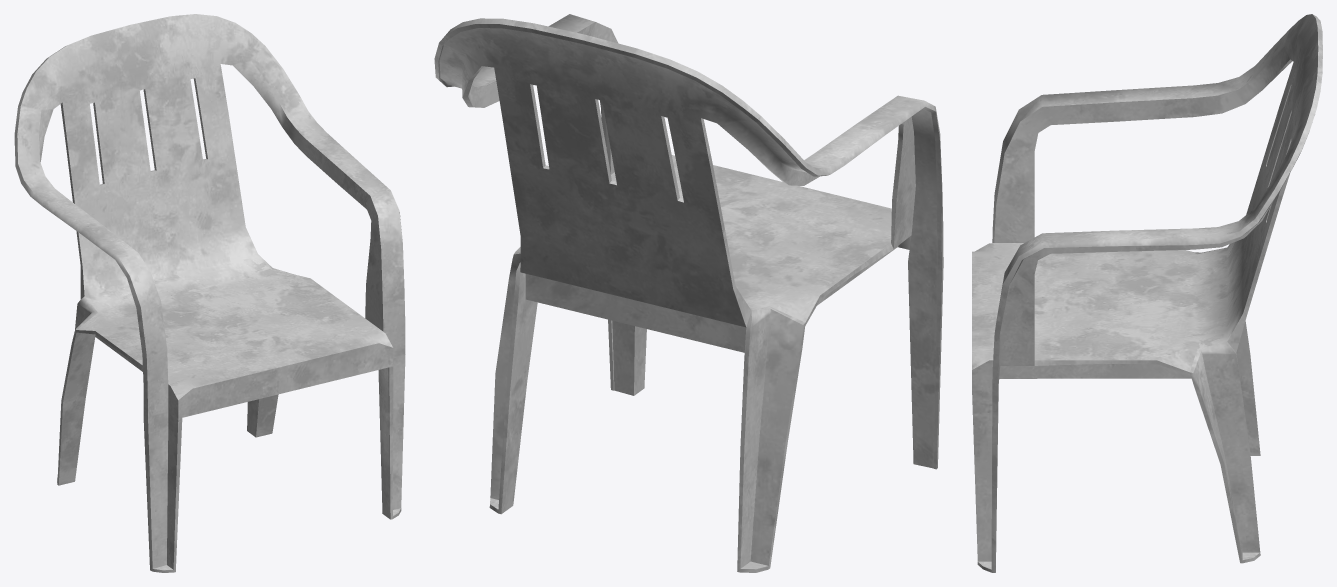
Rendered from platic-chair.glb.
The picture shows the model from 3 angles, left to right: view 1: azimuth 30°, elevation 25°; view 2: azimuth 150°, elevation 25°; view 3: azimuth 270°, elevation 25°; orthographic projection. The views are drawn at different scales.
Parts seen in each view (by area): view 1: NurbsPath.001_Kursi Plastik 2 L_0; view 2: NurbsPath.001_Kursi Plastik 2 L_0; view 3: NurbsPath.001_Kursi Plastik 2 L_0.
Boxes of the visible parts, x1,y1,x2,y2 form: NurbsPath.001_Kursi Plastik 2 L_0: [14, 14, 405, 572]; NurbsPath.001_Kursi Plastik 2 L_0: [434, 14, 943, 572]; NurbsPath.001_Kursi Plastik 2 L_0: [972, 14, 1322, 572].
Size of the model in its own units: 0.8901 by 1.21 by 0.8417.
1 material, 1 textured.
